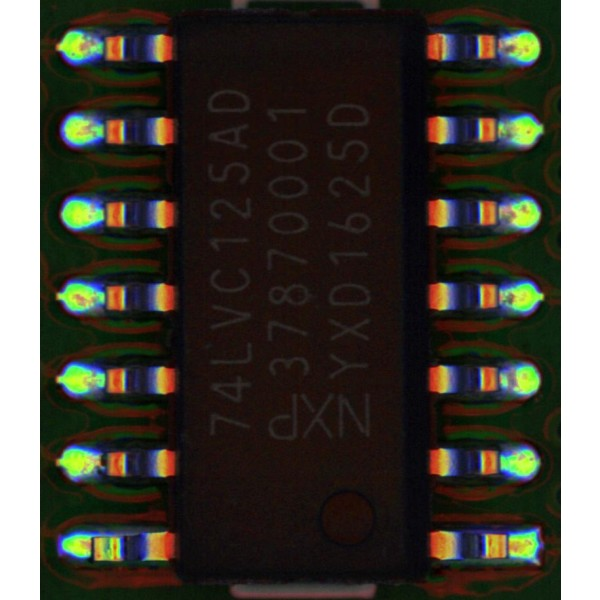Bad_qiaojiao: (490, 540, 522, 556), (79, 540, 109, 553)
